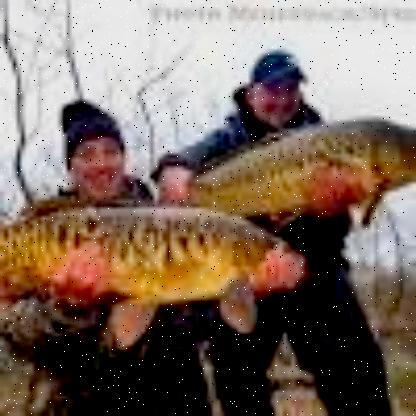ikan-mas: (0, 195, 284, 303), (183, 113, 410, 220)
